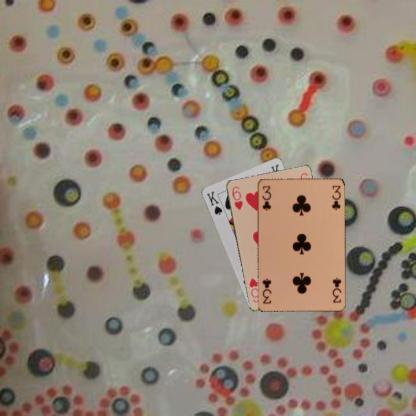3c: (329, 275, 342, 304), (260, 183, 272, 212)
6h: (229, 183, 244, 211)
Ks: (204, 188, 223, 216)
